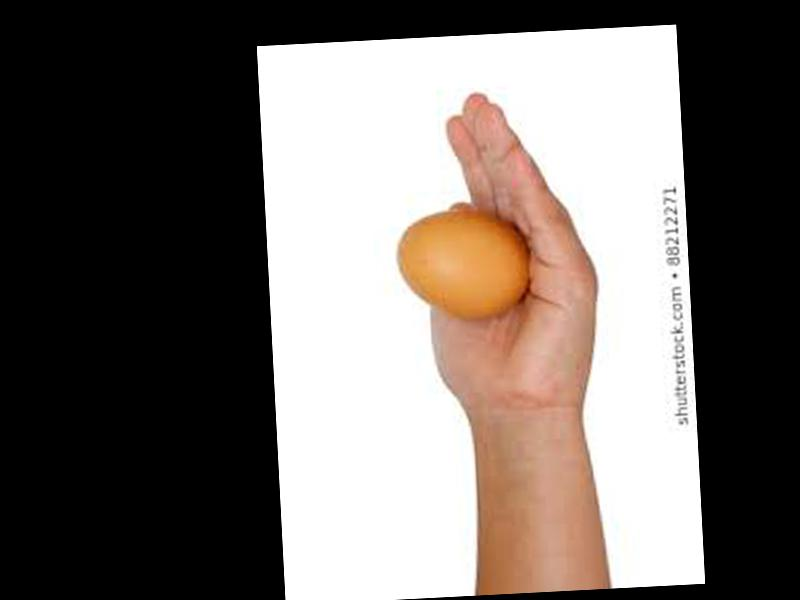Eggs: (394, 207, 534, 322)
